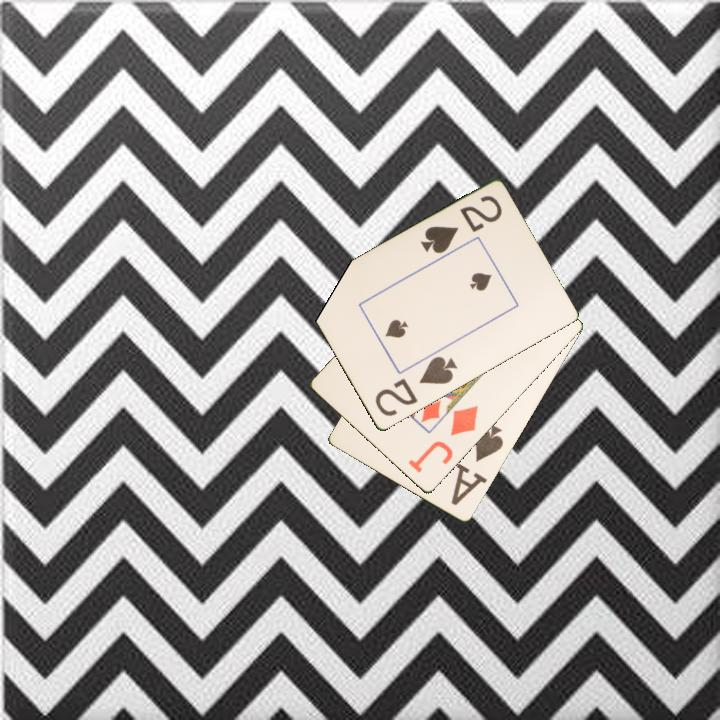2s: (371, 353, 460, 420), (417, 192, 505, 257)
As: (453, 421, 506, 501)
Jd: (404, 402, 481, 476)
